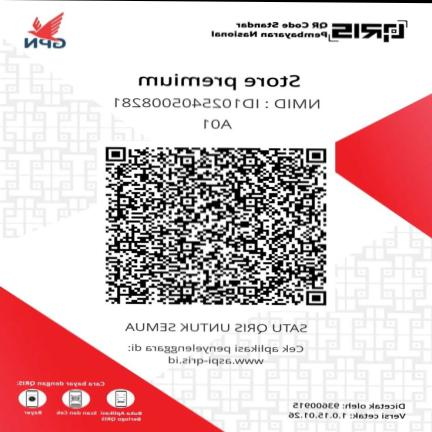Barcode_Asli: (95, 137, 337, 312)
